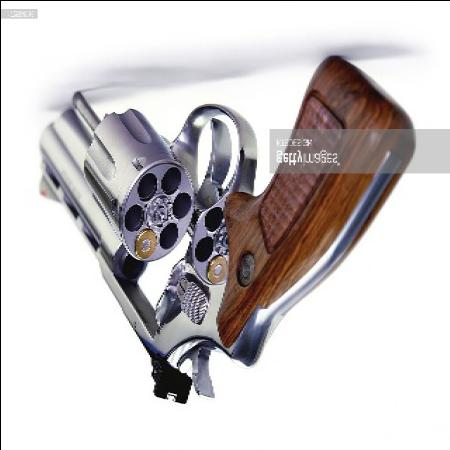Pistol: (37, 55, 418, 407)
